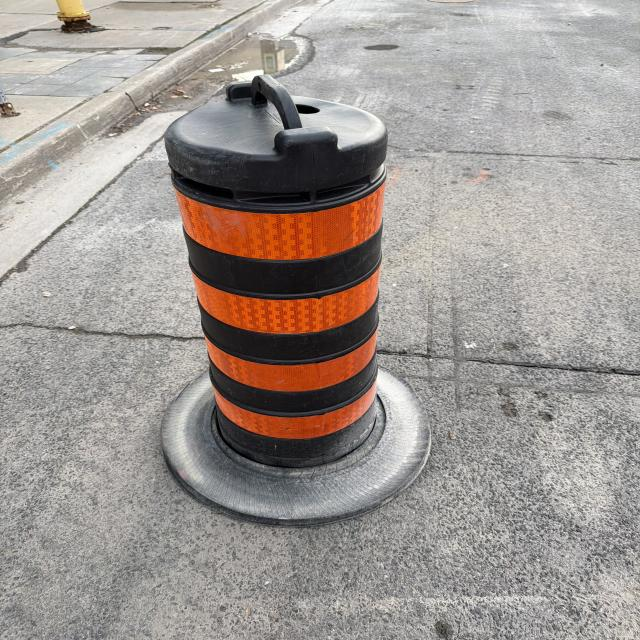Teraffic Barrel: (162, 75, 430, 524)
